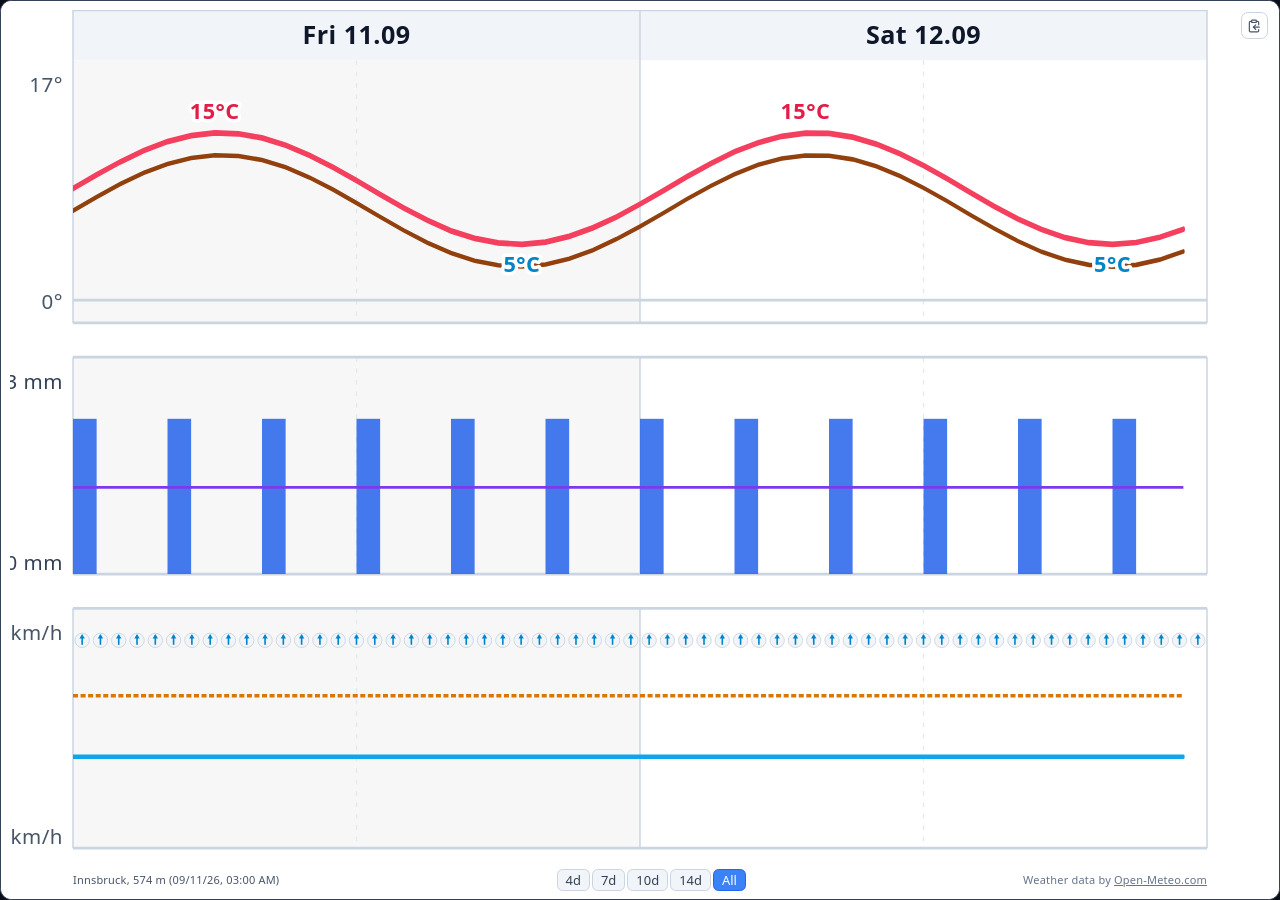
Test case: MeteogramChart layouts › lists only the layout's quantities in the fullscreen footer
Double-click the element with class "meteogram-redesign-container" at (640, 450), box [0,0,1279,899]
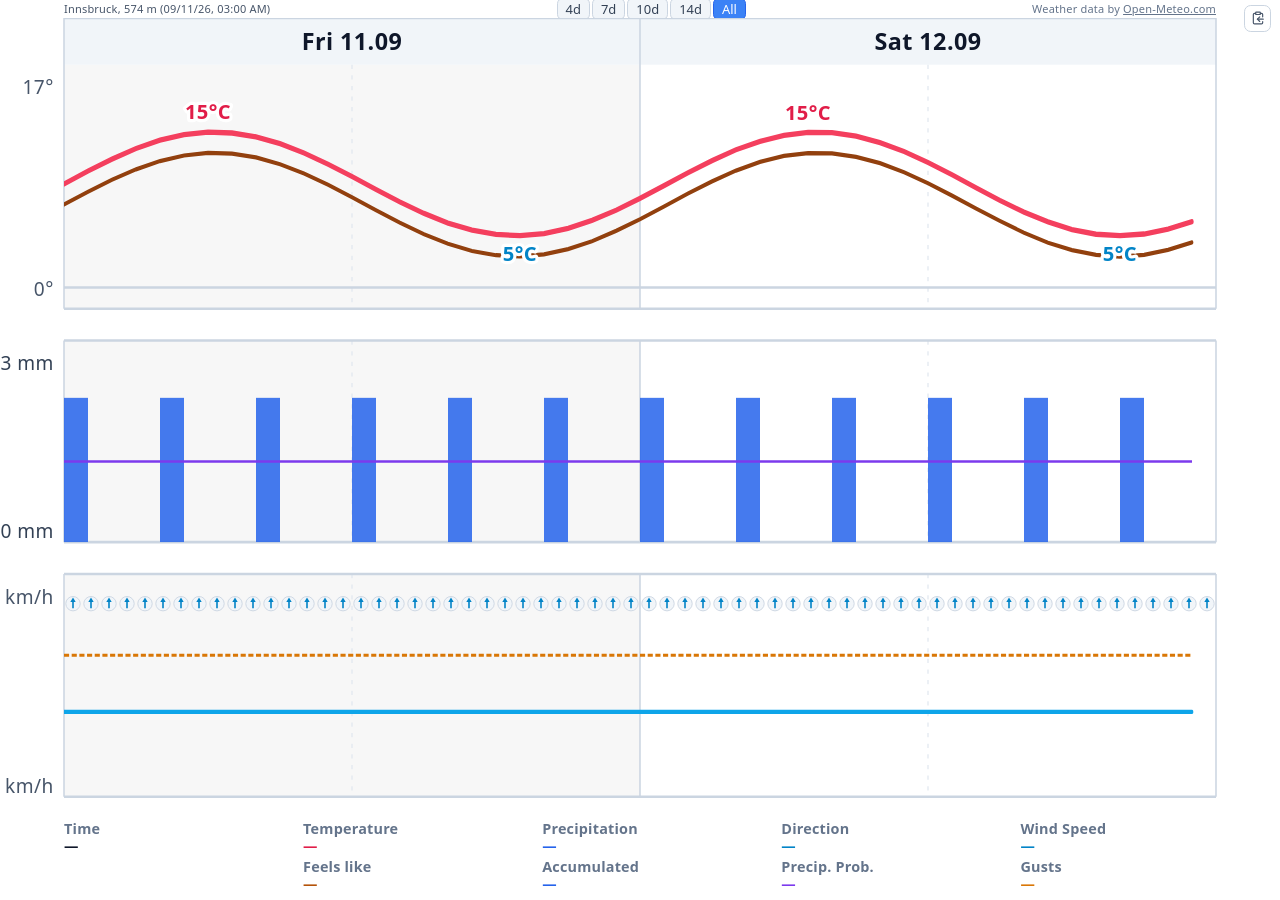
Result: the element with test id "fullscreen-detail-temp" is shown at [303,819,398,855]
Result: the element with test id "fullscreen-detail-gusts" is shown at [1020,857,1062,893]
